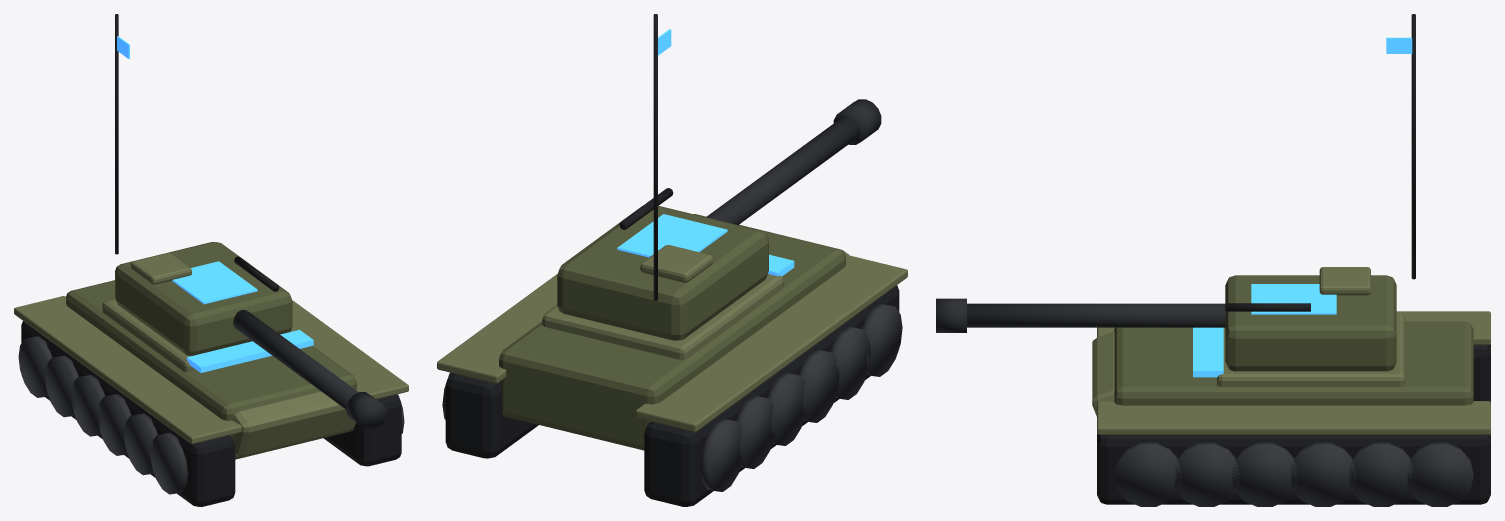
File: minion_blue_tank.glb
The picture shows the model from 3 angles, left to right: view 1: azimuth 30°, elevation 25°; view 2: azimuth 150°, elevation 25°; view 3: azimuth 270°, elevation 25°; orthographic projection. The views are drawn at different scales.
Parts seen in each view (by area): view 1: part_olive2, part_olive, part_wheel, part_track, part_gun, part_bluestripe; view 2: part_olive, part_olive2, part_track, part_wheel, part_gun, part_bluestripe; view 3: part_olive, part_olive2, part_wheel, part_track, part_gun, part_bluestripe.
Boxes of the visible parts, bbox=[...] form: part_olive2: bbox=[14, 253, 408, 457]; part_olive: bbox=[66, 242, 356, 459]; part_wheel: bbox=[18, 336, 404, 494]; part_track: bbox=[21, 14, 401, 506]; part_gun: bbox=[233, 310, 386, 430]; part_bluestripe: bbox=[117, 36, 313, 372]; part_olive: bbox=[499, 206, 845, 450]; part_olive2: bbox=[437, 245, 907, 431]; part_track: bbox=[445, 14, 899, 506]; part_wheel: bbox=[442, 303, 902, 491]; part_gun: bbox=[706, 99, 881, 224]; part_bluestripe: bbox=[617, 29, 794, 276]; part_olive: bbox=[1114, 275, 1473, 405]; part_olive2: bbox=[1092, 267, 1490, 434]; part_wheel: bbox=[1114, 442, 1473, 506]; part_track: bbox=[1097, 14, 1490, 504]; part_gun: bbox=[936, 298, 1225, 332]; part_bluestripe: bbox=[1193, 37, 1412, 377].
Bounding box in the file's own units: 1.66 × 2.68 × 3.24.
